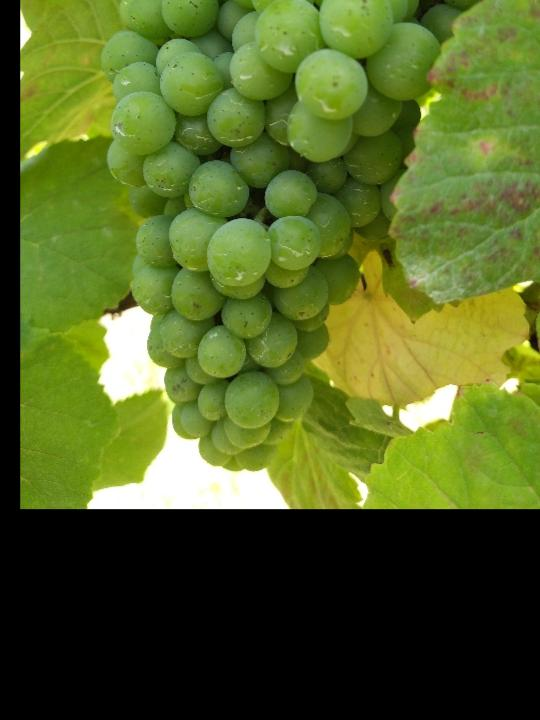grape: (96, 0, 502, 478)
